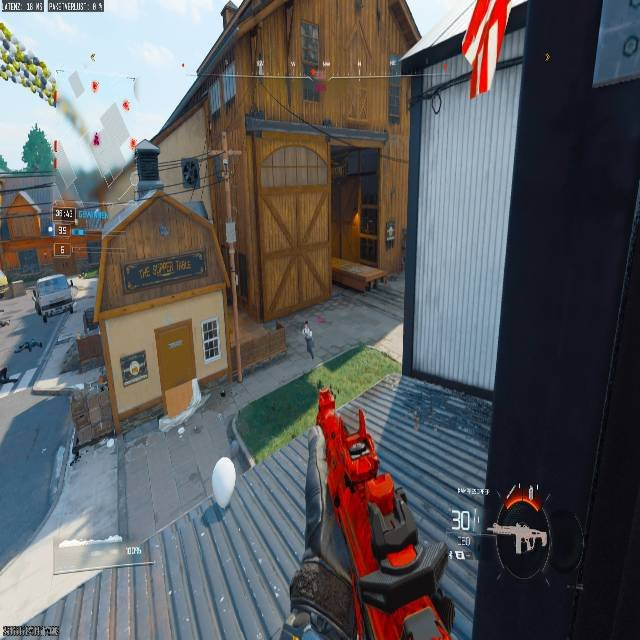head: (304, 320, 309, 328)
player: (301, 320, 314, 359)
